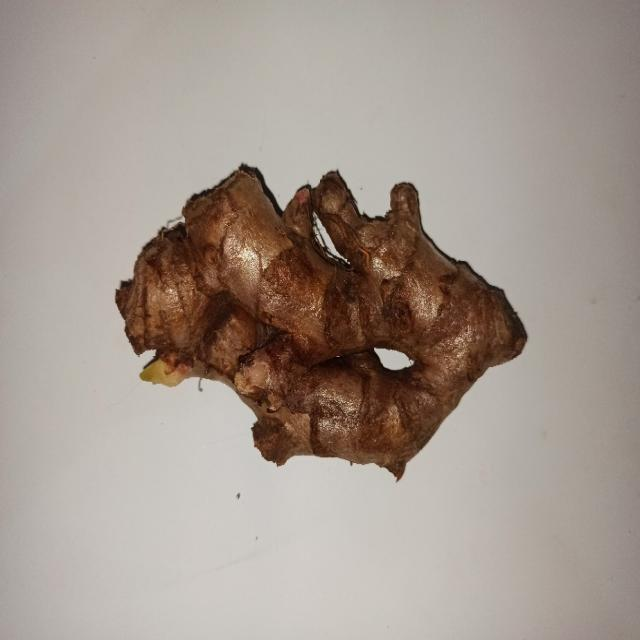ginger: (125, 173, 513, 470)
